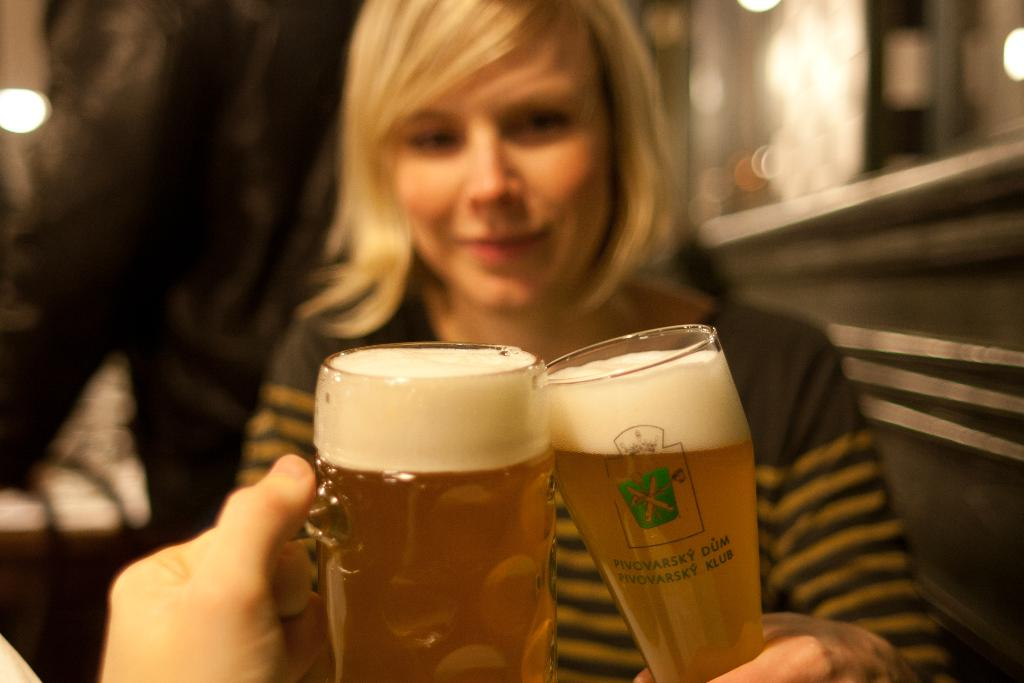Beer: (316, 342, 552, 682), (545, 355, 753, 682)
